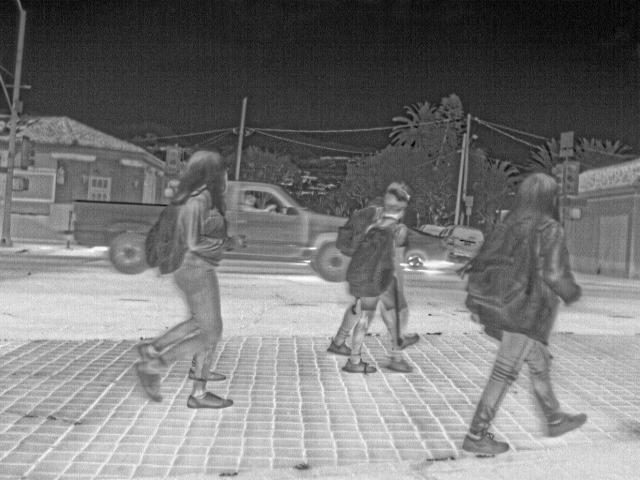car: (228, 177, 344, 282), (70, 198, 149, 274), (405, 236, 450, 270), (450, 224, 483, 261), (418, 222, 446, 236)
person: (460, 172, 587, 456), (134, 148, 234, 410), (328, 180, 415, 358), (341, 187, 415, 377)
